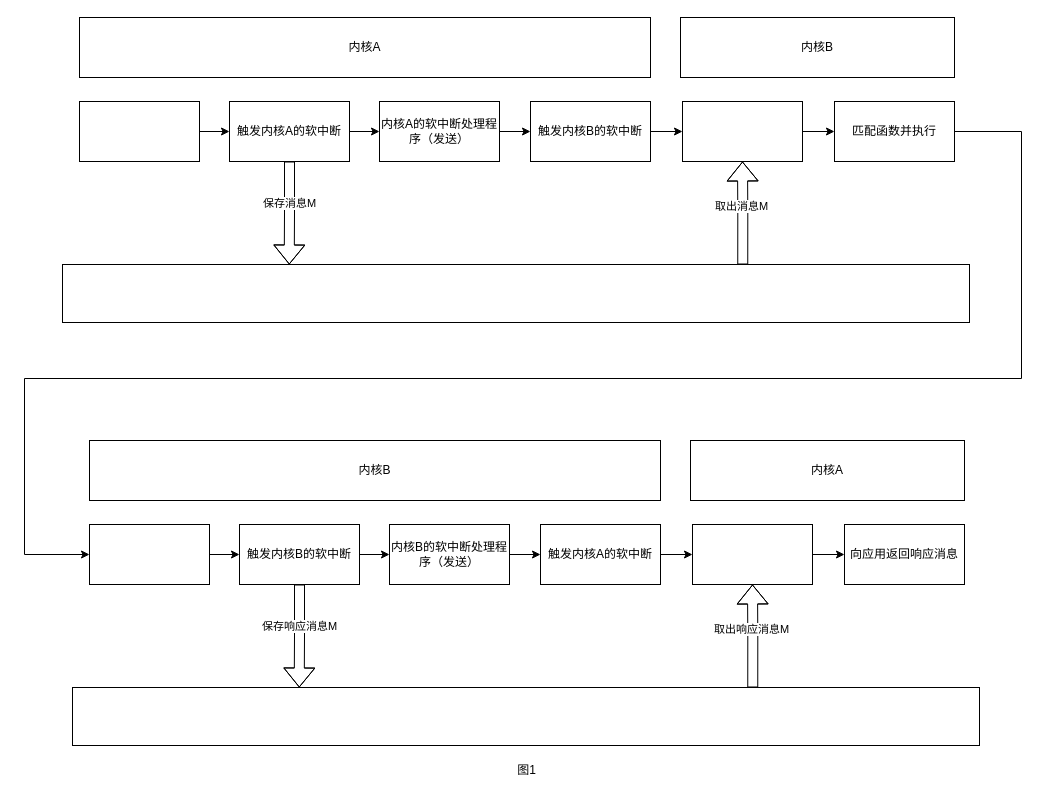
Image size: 1047x801. Some labels were removed from this diagram. The shapes that lost their labels are listed below. From the top down, each one's centre as x and y in pixels, then its label:
the point at 139,131: 打包消息M
the point at 742,131: 内核B的软中断处理程序（接收）
the point at 516,293: 共享内存MEM_A2B
the point at 149,554: 打包响应消息M
the point at 752,554: 内核A的软中断处理程序（接收）
the point at 526,716: 共享内存MEM_B2A
